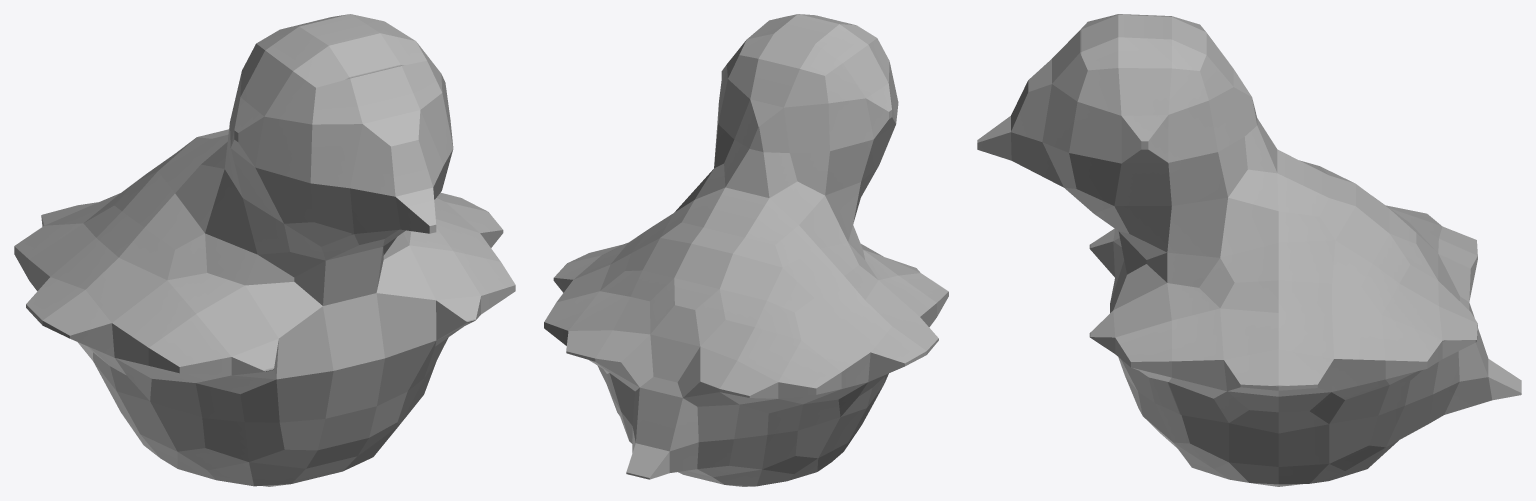
File: bat.glb
3 renders of one model, left to right at view 1: azimuth 30°, elevation 25°; view 2: azimuth 150°, elevation 25°; view 3: azimuth 270°, elevation 25°, orthographic. The views are drawn at different scales.
Visible parts, largest first — view 1: geometry_0; view 2: geometry_0; view 3: geometry_0.
Boxes of the visible parts, box(x1,y1,x2,y2) form: geometry_0: box(14, 14, 515, 486); geometry_0: box(544, 14, 948, 486); geometry_0: box(977, 14, 1521, 486).
Size of the model in its own units: 0.8828 by 0.9358 by 1.04.
1 material, 1 textured.
